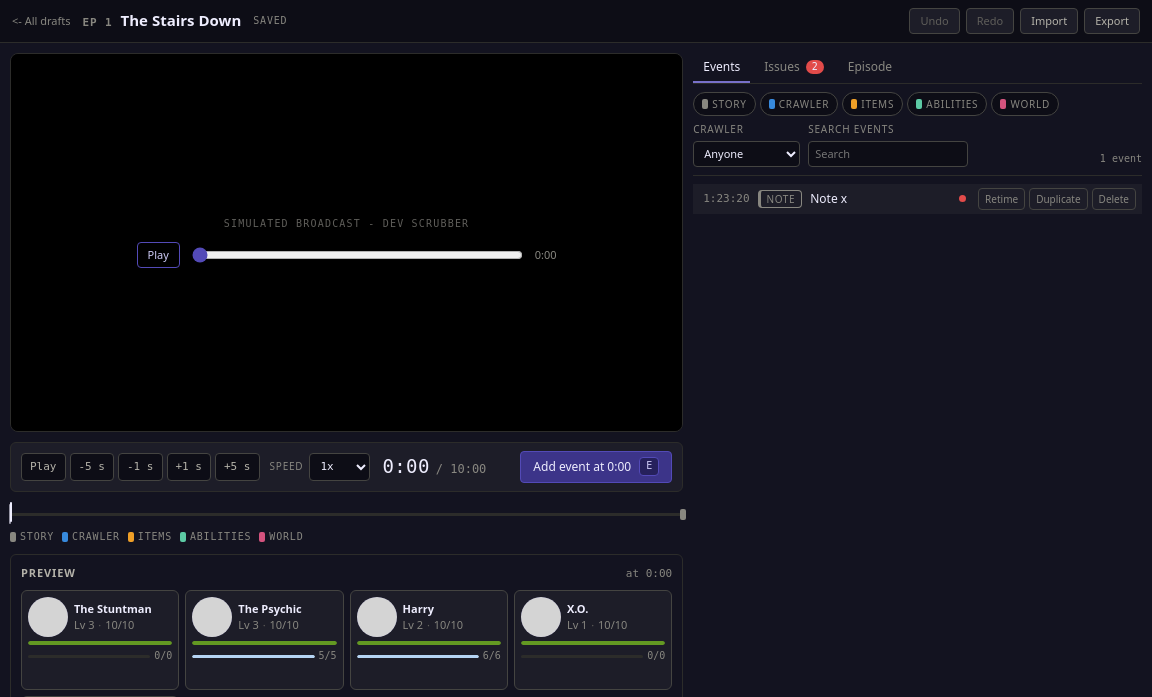
Test: StudioEpisodePage › counts the draft issues on the Issues tab
The image size is (1152, 697).
Expected: the element with test id "fake-stage" is shown, 11,54 -> 682,431
Click the tab with test id "tab-issues". click: (794,68)
box: 754,53 -> 834,83
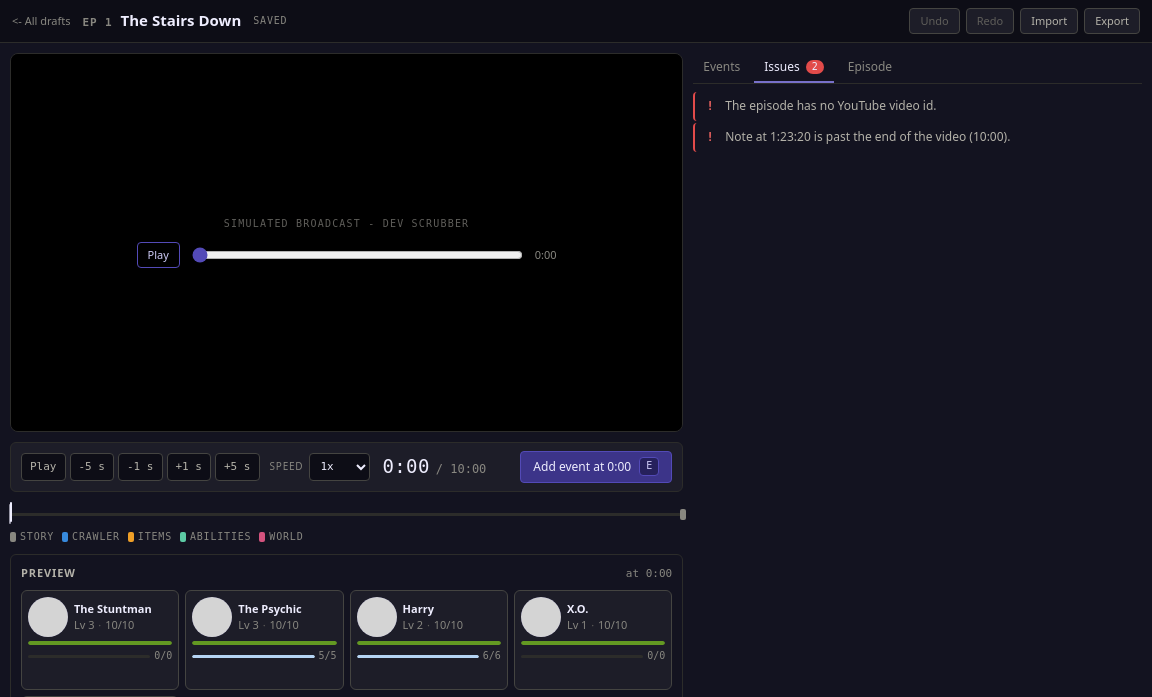
Result: the list with test id "issues-panel" is shown at 693,92 -> 1142,152
